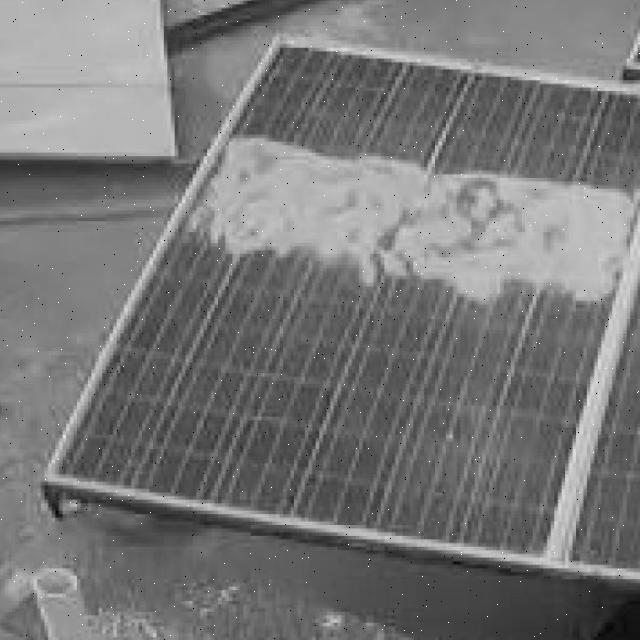Anomaly Solar Panel: (52, 0, 640, 607)
Snow: (184, 124, 640, 317)
